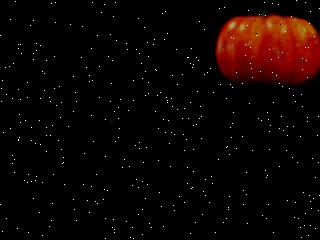Pumpkin: (213, 0, 320, 89)
